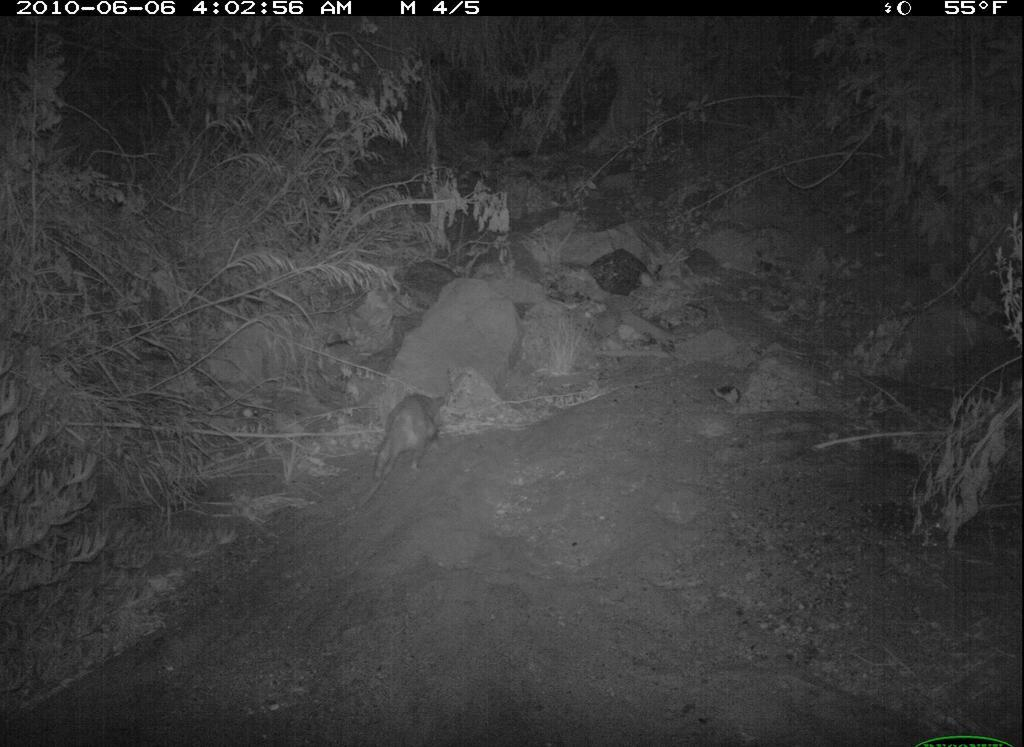opossum: (349, 391, 454, 518)
